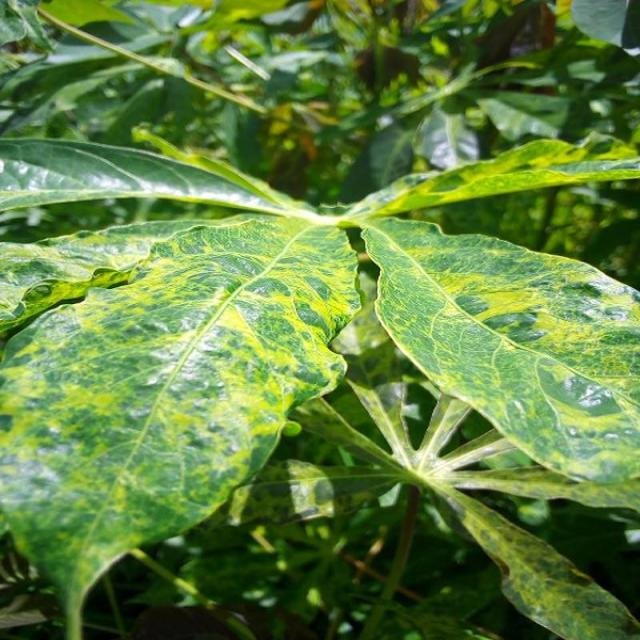cassava leaf: (0, 207, 362, 636), (360, 212, 638, 496)
